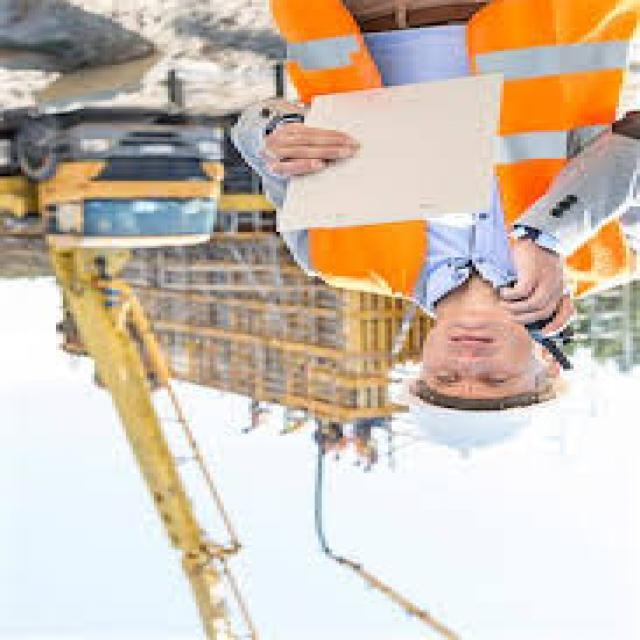safetyhelmet: (406, 327, 572, 482)
